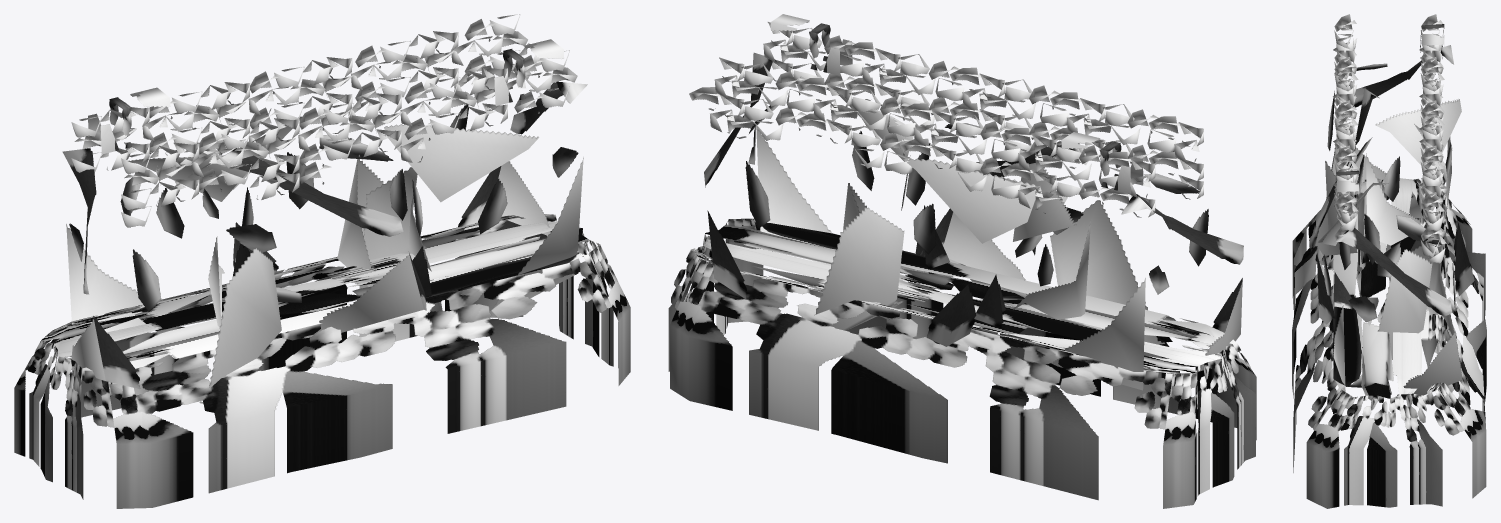
File: wall_med.dae
The picture shows the model from 3 angles, left to right: view 1: azimuth 30°, elevation 25°; view 2: azimuth 150°, elevation 25°; view 3: azimuth 270°, elevation 25°; orthographic projection. The views are drawn at different scales.
Parts seen in each view (by area): view 1: wall_med.001; view 2: wall_med.001; view 3: wall_med.001.
Part boxes in pixels (left/top/right/bottom): wall_med.001: left=14, top=14, right=630, bottom=508; wall_med.001: left=668, top=14, right=1256, bottom=508; wall_med.001: left=1292, top=14, right=1486, bottom=508.
Bounding box in the file's own units: 28.03 × 9.88 × 16.32.
